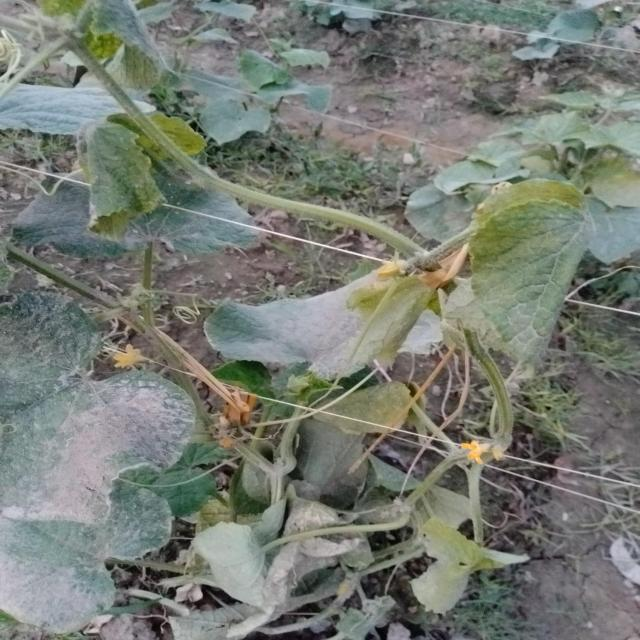cucumber_bacterial: (0, 334, 190, 640), (442, 172, 614, 382), (193, 490, 388, 640), (201, 272, 431, 383), (52, 87, 171, 250), (0, 268, 109, 408), (23, 2, 158, 104), (173, 61, 284, 154)
